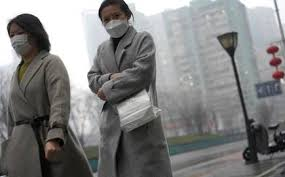mask: (9, 19, 39, 55), (103, 4, 129, 37)
